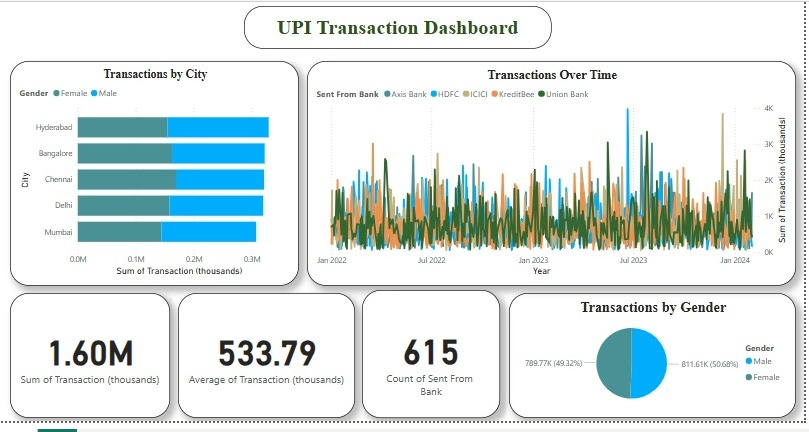

The page's visual inventory and layout, read from the dashboard file:
{"tool":"powerbi","page":{"name":"Page 1","canvas":[1280,720],"ordinal":0},"visuals":[{"type":"pieChart","title":"Transactions by Gender","fields":{"Y":["Sum(cleaned_UPI_data.Transaction (thousands))"],"Category":["cleaned_UPI_data.Gender"]},"box":[810.8,516.1,457.2,199.1],"z":0},{"type":"barChart","title":"Transactions by City","fields":{"Y":["Sum(cleaned_UPI_data.Transaction (thousands))"],"Category":["cleaned_UPI_data.City"],"Series":["cleaned_UPI_data.Gender"]},"box":[15.9,146.5,460.4,358.4],"z":1000},{"type":"lineChart","title":"Transactions Over Time","fields":{"Series":["cleaned_UPI_data.Sent From Bank"],"Y2":["Sum(cleaned_UPI_data.Transaction (thousands))"],"Category":["cleaned_UPI_data.Date (dd/mm/yyyy).Variation.Date Hierarchy.Year","cleaned_UPI_data.Date (dd/mm/yyyy).Variation.Date Hierarchy.Month","cleaned_UPI_data.Date (dd/mm/yyyy).Variation.Date Hierarchy.Day"]},"box":[489,146.5,778.9,358.4],"z":2000},{"type":"card","fields":{"Values":["Sum(cleaned_UPI_data.Transaction (thousands))"]},"box":[15.9,516.1,254.9,199.1],"z":3000},{"type":"card","fields":{"Values":["Avg(cleaned_UPI_data.Transaction (thousands))"]},"box":[283.5,516.1,281.9,199.1],"z":4000},{"type":"card","fields":{"Values":["CountNonNull(cleaned_UPI_data.Sent From Bank)"]},"box":[576.6,511.3,219.8,203.9],"z":5000},{"type":"textbox","box":[388.3,58.3,490,68.3],"z":6000}]}

Visuals, with their boxes in screenshot pixels (x1, y1, x2, y2):
"Transactions by Gender" pieChart: <bbox>497, 291, 778, 413</bbox>
"Transactions by City" barChart: <bbox>10, 65, 292, 284</bbox>
"Transactions Over Time" lineChart: <bbox>300, 65, 778, 284</bbox>
card - Sum(cleaned_UPI_data.Transaction (thousands)): <bbox>10, 291, 166, 413</bbox>
card - Avg(cleaned_UPI_data.Transaction (thousands)): <bbox>174, 291, 347, 413</bbox>
card - CountNonNull(cleaned_UPI_data.Sent From Bank): <bbox>354, 288, 488, 413</bbox>
textbox: <bbox>238, 10, 539, 52</bbox>
